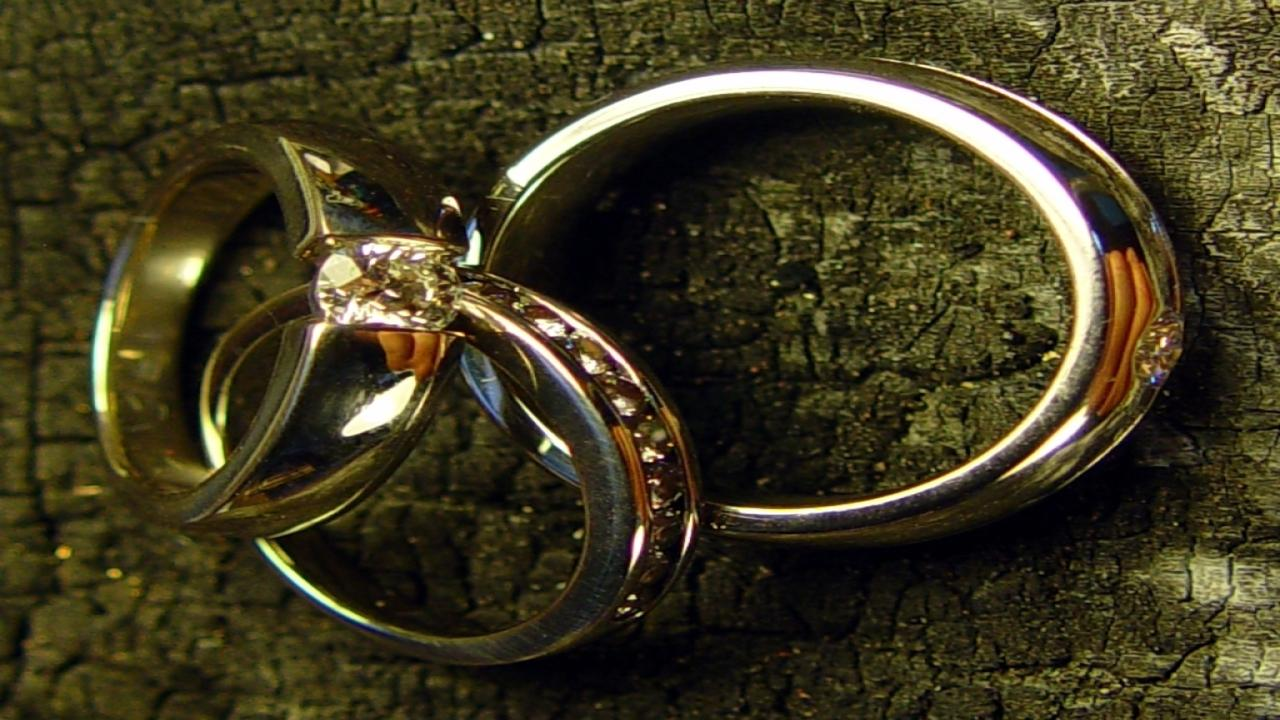ring: (462, 52, 1188, 552), (206, 268, 698, 672), (75, 114, 461, 540)
